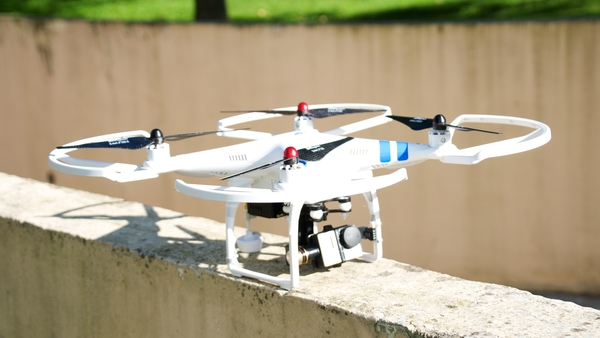drone: (47, 101, 554, 291)
